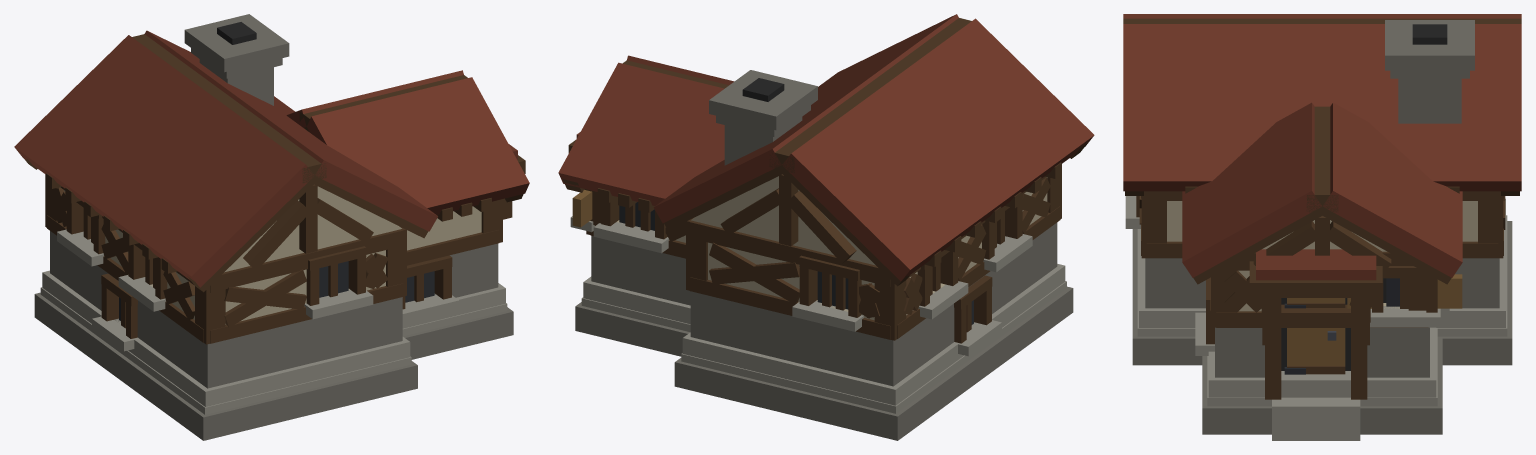
File: cottage_b.glb
3 views of the same model, side by side, from view 1: azimuth 30°, elevation 25°; view 2: azimuth 150°, elevation 25°; view 3: azimuth 270°, elevation 25° (orthographic). The views are drawn at different scales.
Visible parts, largest first — view 1: Cube.179, Cube.204, Cube, Cube.010, Cube.178, Cube.047, Cube.005, Cube.215, Cube.001, Cube.187, Cube.002, Cube.133 (+42 smaller); view 2: Cube.179, Cube.203, Cube, Cube.009, Cube.178, Cube.047, Cube.215, Cube.030, Cube.008, Cube.001, Cube.181, Cube.002 (+36 smaller); view 3: Cube.178, Cube.203, Cube.204, Cube, Cube.002, Cube.048, Cube.004, Cube.215, Cube.059, Cube.065, Cube.047, Cube.028 (+40 smaller).
Part boxes in pixels (box(x1,y1,x2,y2)): Cube.179: box(14, 35, 313, 287); Cube.204: box(307, 77, 529, 214); Cube: box(34, 292, 417, 440); Cube.010: box(224, 301, 385, 384); Cube.178: box(144, 30, 437, 231); Cube.047: box(42, 270, 410, 406); Cube.005: box(137, 300, 223, 388); Cube.215: box(184, 14, 289, 72); Cube.001: box(40, 287, 411, 414); Cube.187: box(224, 186, 401, 272); Cube.002: box(403, 307, 513, 359); Cube.133: box(210, 229, 403, 292); Cube.179: box(782, 18, 1094, 281); Cube.203: box(558, 62, 724, 205); Cube: box(674, 286, 1073, 440); Cube.009: box(708, 295, 876, 381); Cube.178: box(653, 14, 958, 223); Cube.047: box(682, 264, 1065, 405); Cube.215: box(709, 70, 817, 130); Cube.030: box(608, 240, 690, 305); Cube.008: box(876, 303, 954, 386); Cube.001: box(681, 281, 1066, 413); Cube.181: box(691, 176, 875, 265); Cube.002: box(575, 302, 689, 356); Cube.178: box(1123, 24, 1521, 191); Cube.203: box(1323, 102, 1462, 277); Cube.204: box(1182, 102, 1321, 277); Cube: box(1132, 221, 1512, 365); Cube.002: box(1202, 338, 1442, 434); Cube.048: box(1208, 327, 1436, 397); Cube.004: box(1145, 258, 1499, 308); Cube.215: box(1385, 20, 1474, 70); Cube.059: box(1272, 398, 1360, 440); Cube.065: box(1256, 249, 1376, 280); Cube.047: box(1139, 198, 1505, 327); Cube.028: box(1367, 327, 1429, 377).
Size of the model in its own units: 80.14 by 53.6 by 63.
